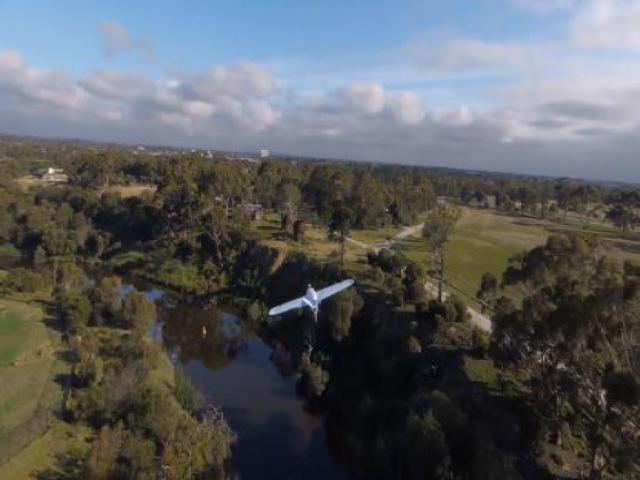uav: (268, 274, 355, 325)
